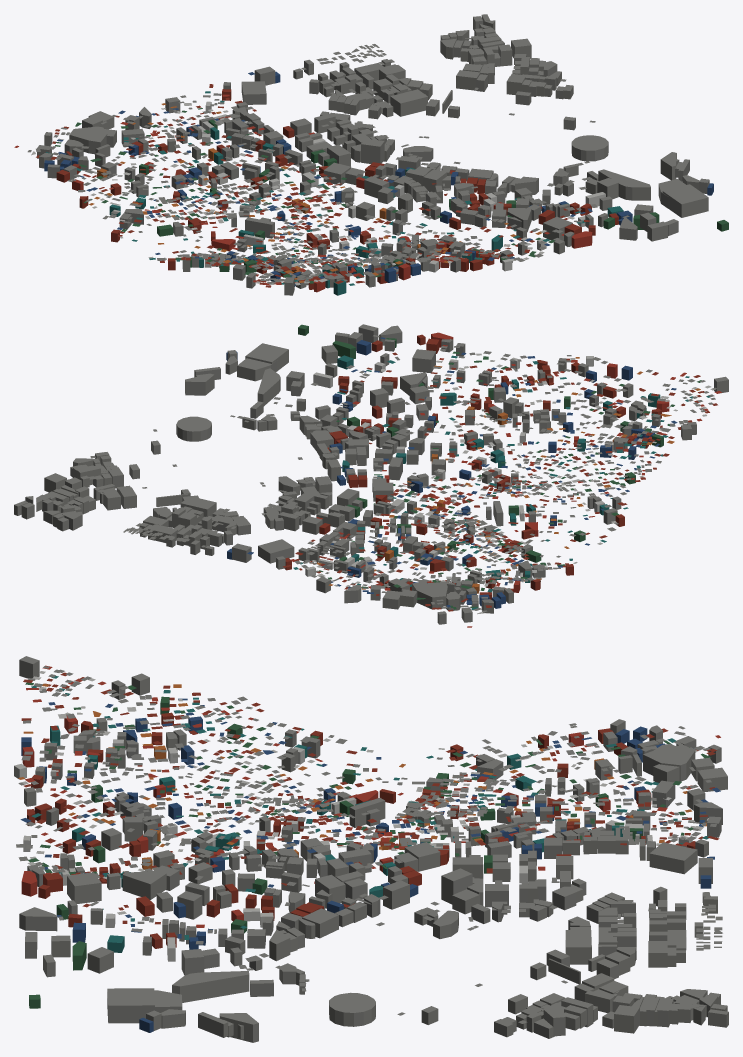
The model's file is far-15-27360-14869.50db5003.glb.
3 renders of one model, top to bottom at view 1: azimuth 30°, elevation 25°; view 2: azimuth 150°, elevation 25°; view 3: azimuth 270°, elevation 25°, orthographic. The views are drawn at different scales.
Size of the model in its own units: 1209 by 195 by 1192.
